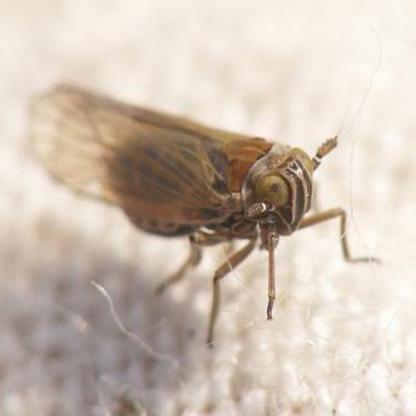brown-planthopper: (29, 84, 342, 320)
